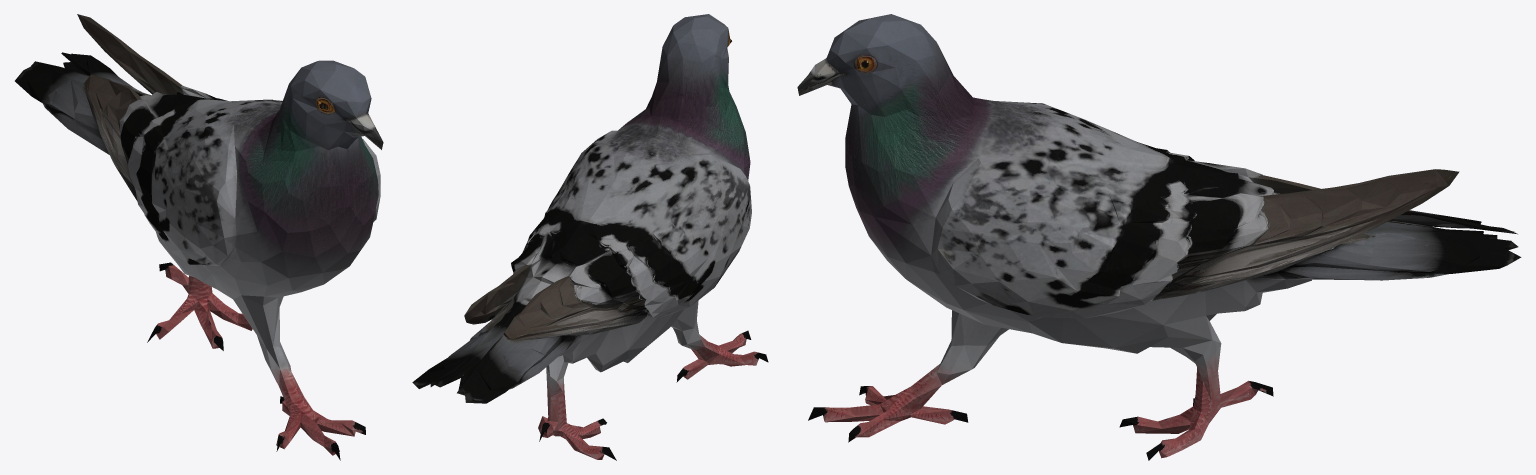
The model's file is HATO.obj.
The picture shows the model from 3 angles, left to right: view 1: azimuth 30°, elevation 25°; view 2: azimuth 150°, elevation 25°; view 3: azimuth 270°, elevation 25°; orthographic projection. The views are drawn at different scales.
Parts seen in each view (by area): view 1: tripo_node_b748fbce-f622-45a8-a90b-08cc10f7a6f4; view 2: tripo_node_b748fbce-f622-45a8-a90b-08cc10f7a6f4; view 3: tripo_node_b748fbce-f622-45a8-a90b-08cc10f7a6f4.
Part boxes in pixels (x1,y1,x2,y2): tripo_node_b748fbce-f622-45a8-a90b-08cc10f7a6f4: (15,14,383,460); tripo_node_b748fbce-f622-45a8-a90b-08cc10f7a6f4: (412,14,768,460); tripo_node_b748fbce-f622-45a8-a90b-08cc10f7a6f4: (797,14,1521,460).
Bounding box in the file's own units: 0.3146 × 0.6379 × 1.
Materials: 1 (1 with a texture image).
